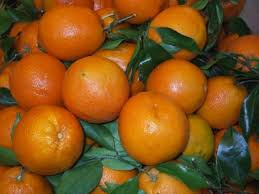orange: (120, 88, 188, 165), (11, 103, 86, 172), (61, 52, 131, 121), (36, 8, 109, 60), (146, 55, 210, 114), (145, 3, 212, 57), (9, 53, 71, 106), (196, 70, 250, 129)
